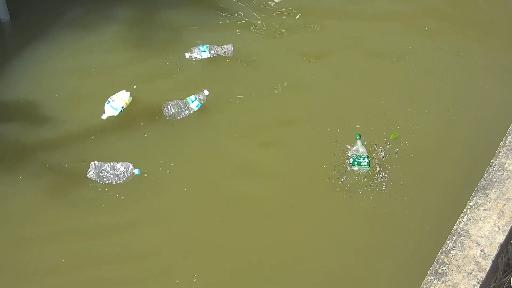leaf: (389, 131, 398, 141)
plastic: (85, 156, 143, 192), (159, 88, 211, 123), (179, 39, 239, 65), (345, 131, 373, 183), (98, 85, 134, 124)
